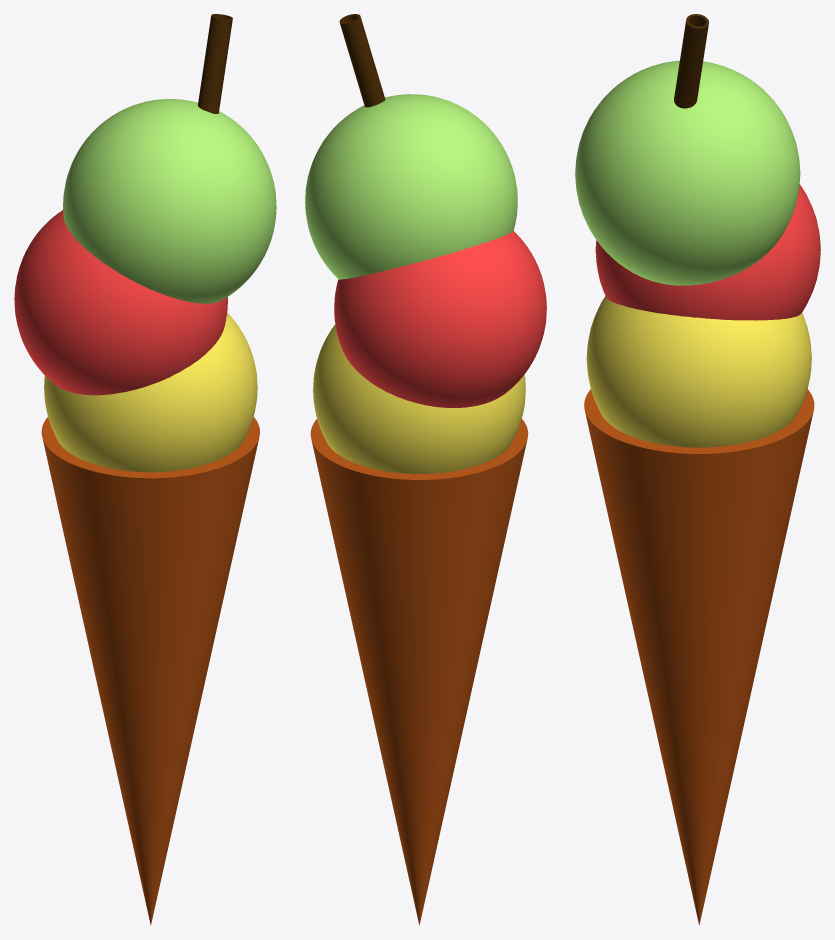
File: Cream.fbx
The picture shows the model from 3 angles, left to right: view 1: azimuth 30°, elevation 25°; view 2: azimuth 150°, elevation 25°; view 3: azimuth 270°, elevation 25°; orthographic projection. The views are drawn at different scales.
Visible parts, largest first — view 1: Cream; view 2: Cream; view 3: Cream.
Part boxes in pixels (<box>): Cream: <box>14,14,276,925</box>; Cream: <box>305,14,546,925</box>; Cream: <box>575,14,820,924</box>.
Bounding box in the file's own units: 7.32 × 27.96 × 6.6.
